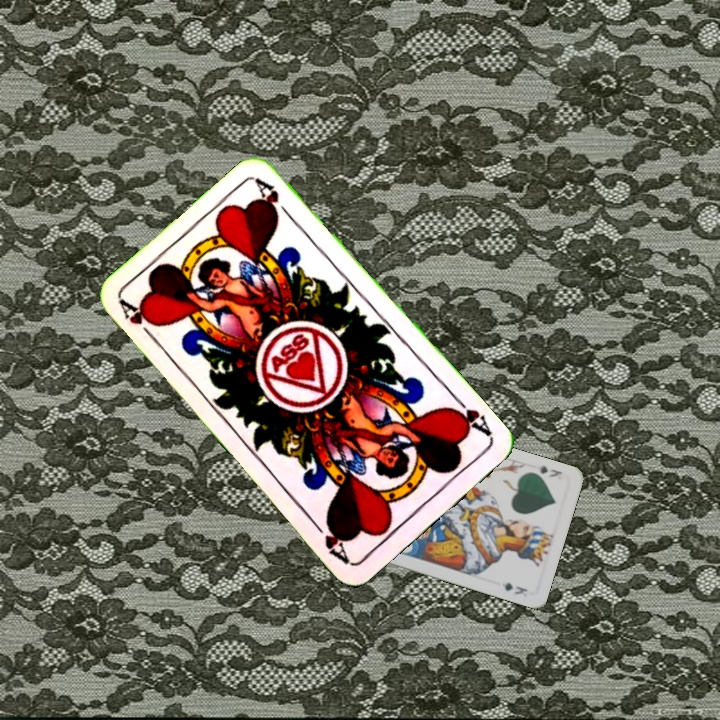GK: (536, 461, 564, 482)
HA: (443, 392, 495, 440), (116, 296, 161, 346)
